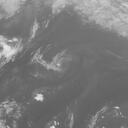cyclone: (33, 46, 72, 78)
